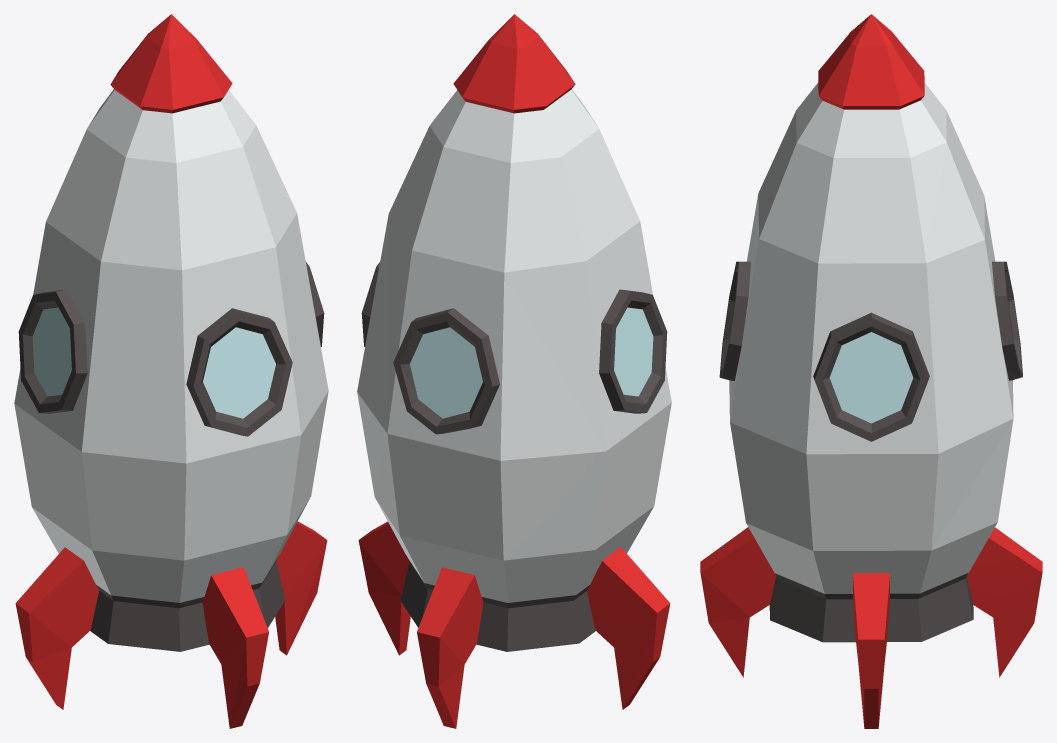
File: Rocket.fbx
3 views of the same model, side by side, from view 1: azimuth 30°, elevation 25°; view 2: azimuth 150°, elevation 25°; view 3: azimuth 270°, elevation 25° (orthographic).
Parts seen in each view (by area): view 1: Cylinder001; view 2: Cylinder001; view 3: Cylinder001.
Boxes of the visible parts, x1,y1,x2,y2 form: Cylinder001: (14,14,328,728); Cylinder001: (357,14,671,728); Cylinder001: (700,14,1042,728).
Size of the model in its own units: 93.77 by 93.77 by 200.
